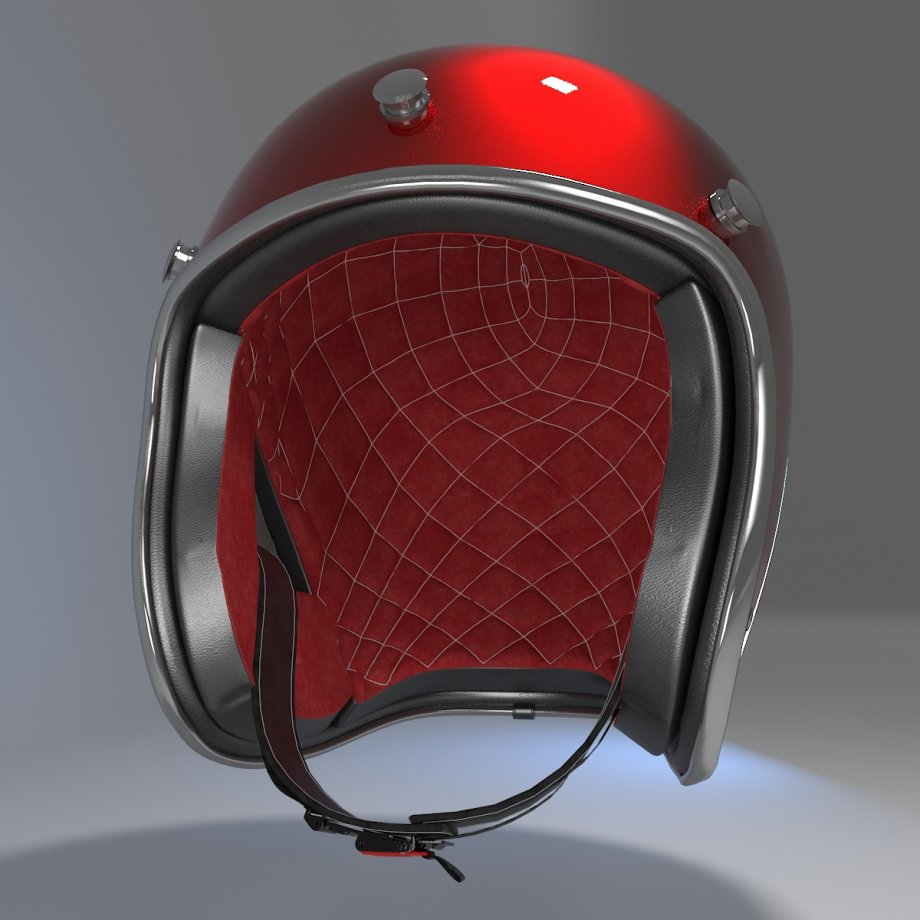with_helmet: (131, 33, 792, 783)
